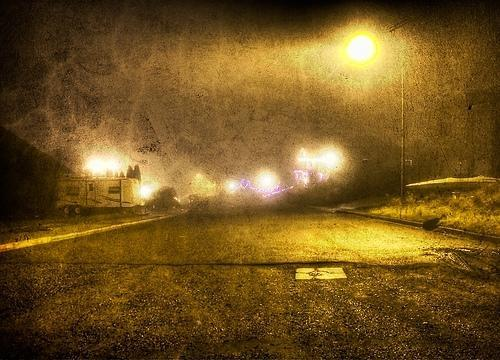truck: (56, 174, 140, 216)
